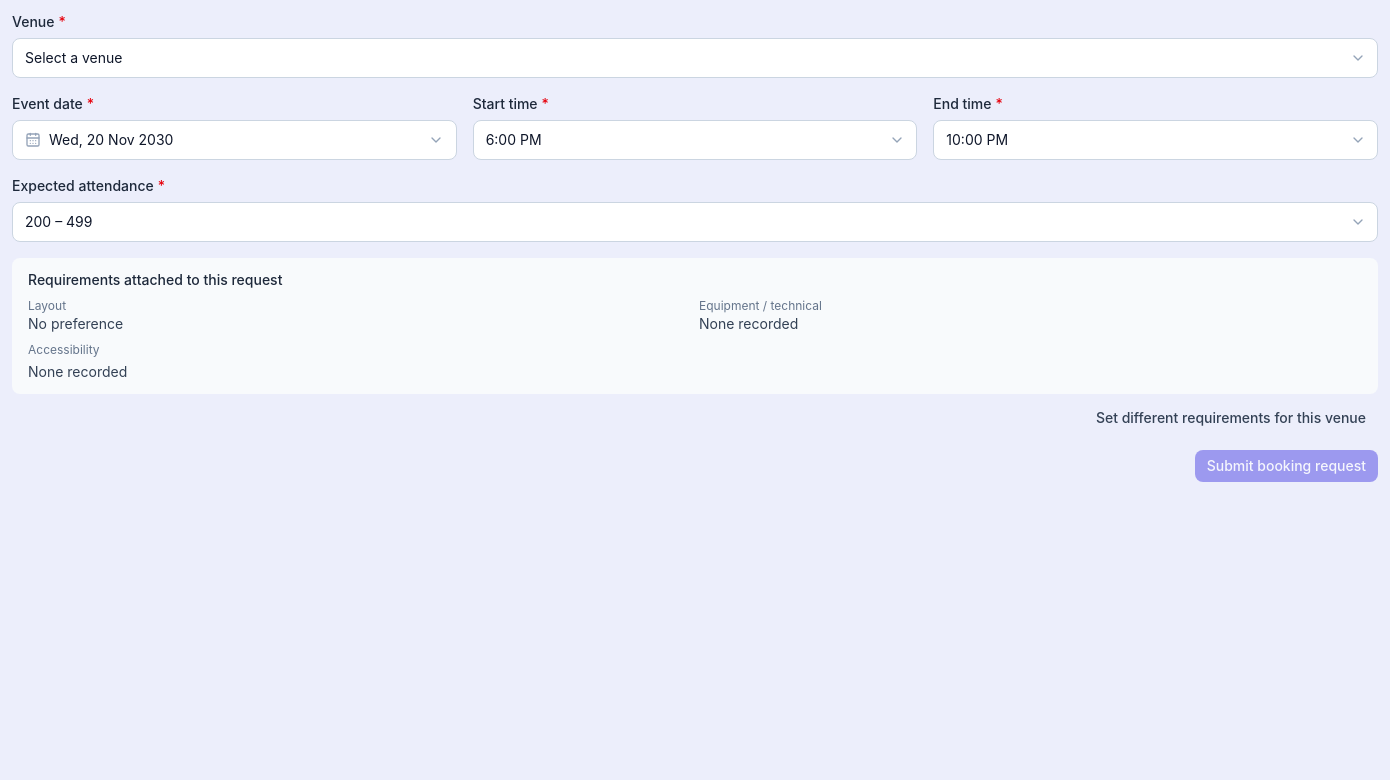
Test: Capacity AC-1/AC-2: the Coordinator can only submit a request the venue can hold › Capacity AC-2: shows the server's refusal when the page's figures were out of date
Select "Campus Green (capacity 600)" in the dropdown labelled "Venue*" at (695, 58), box x1=12 y1=38 x2=1378 y2=78
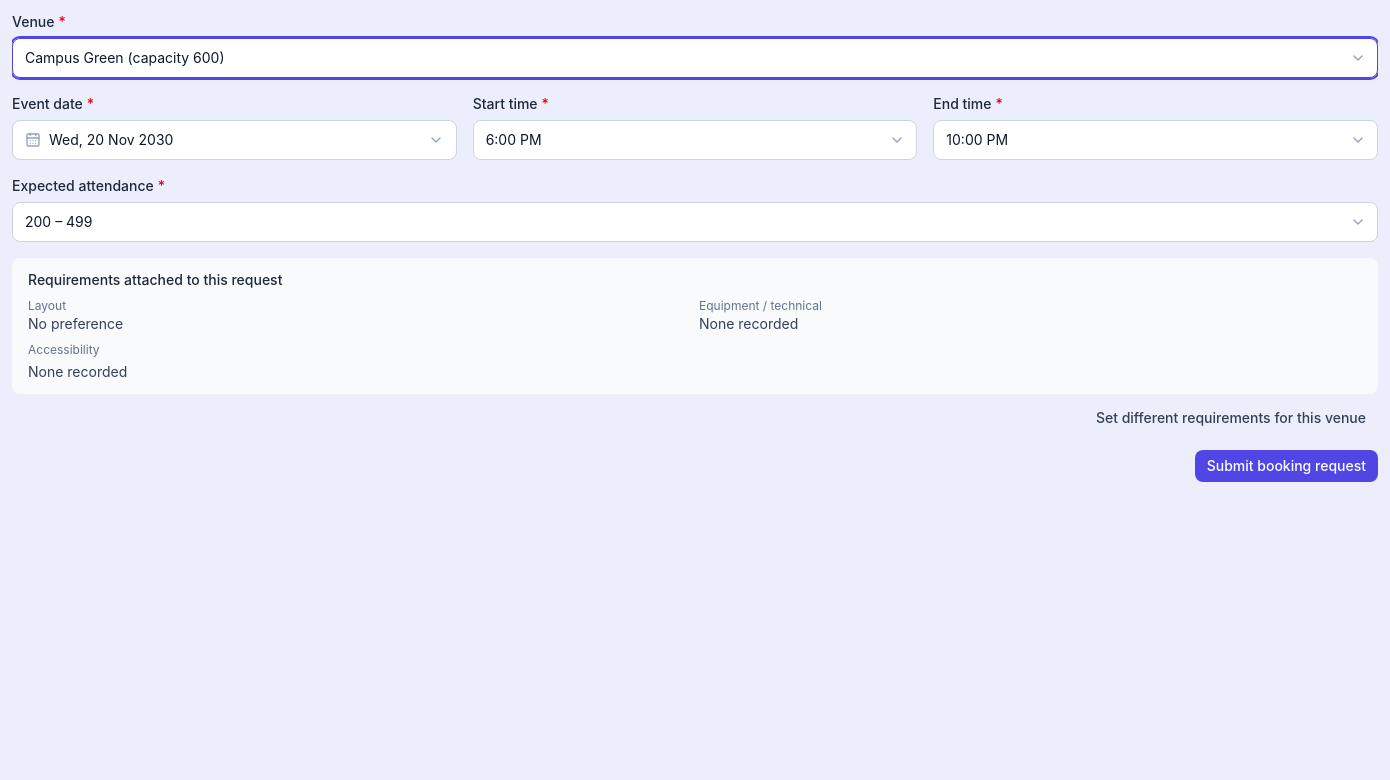
Click the button "Submit booking request" at (1286, 466), box x1=1195 y1=450 x2=1378 y2=482
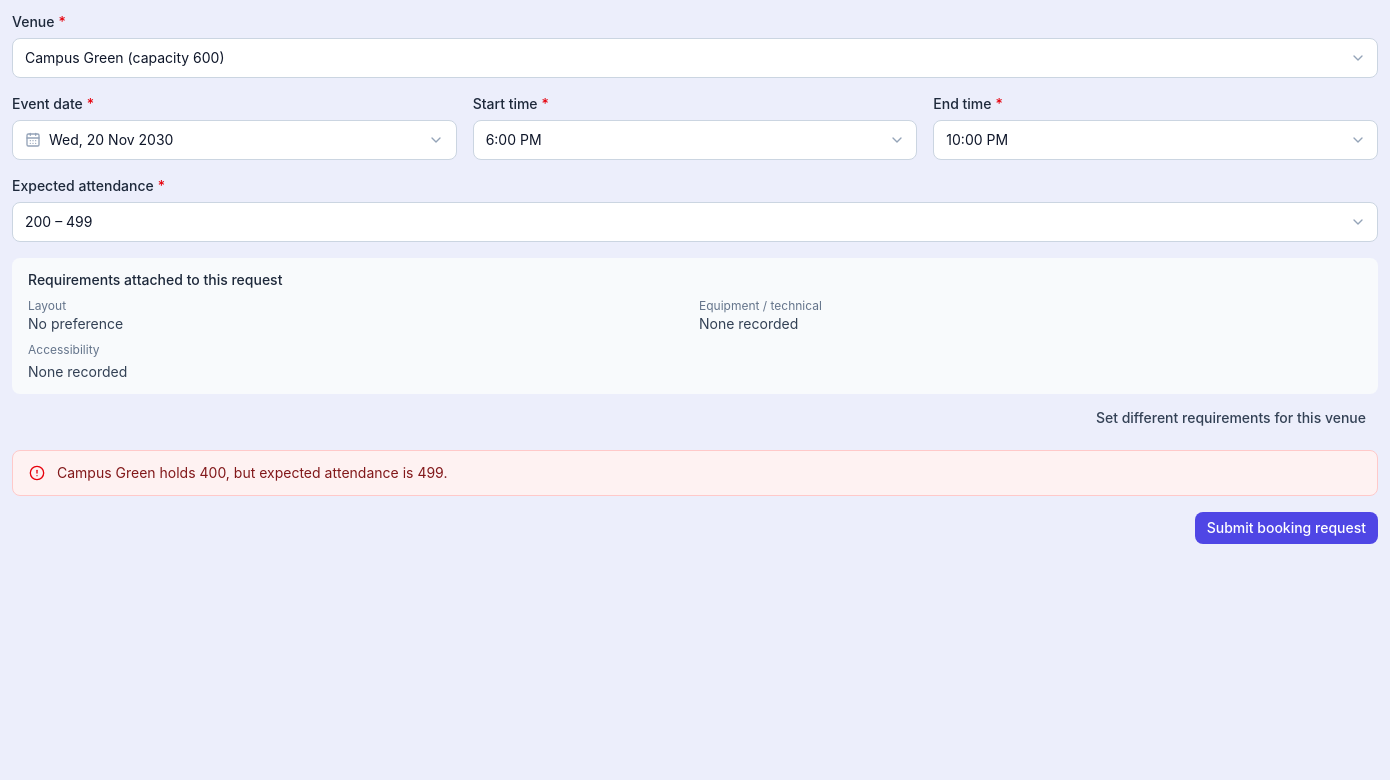
Result: the text "Campus Green holds 400, but expected attendance is 499." is shown at x1=57 y1=463 x2=448 y2=483
